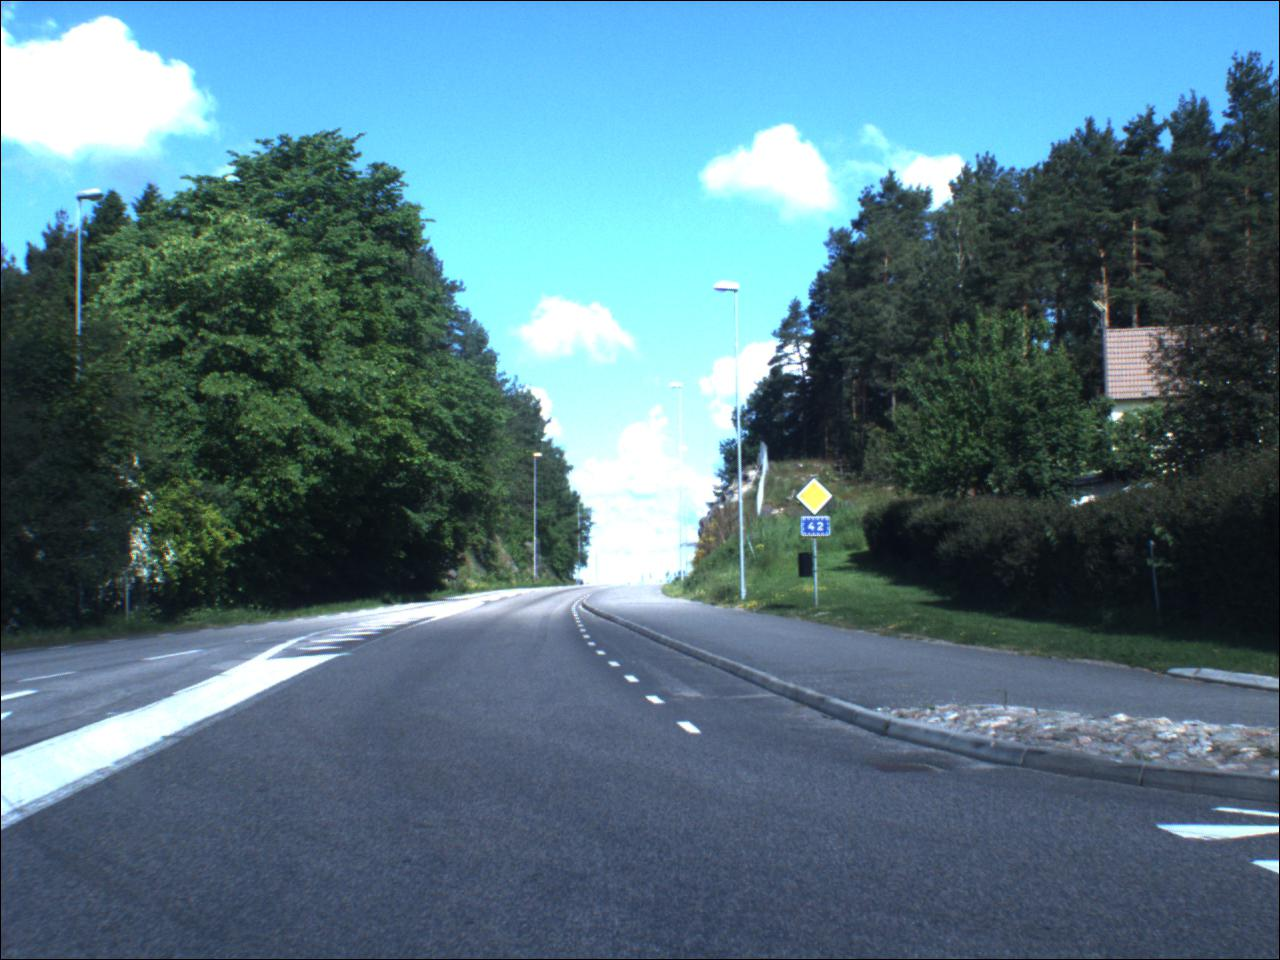PRIORITY_ROAD: (797, 479, 839, 519)
